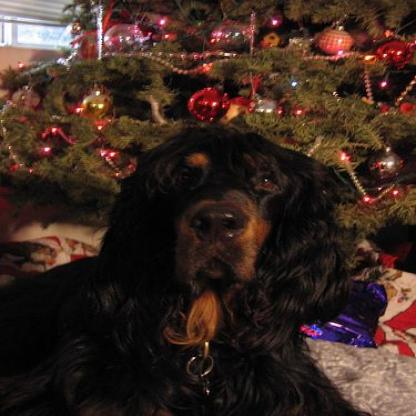Gordon_setter: (0, 121, 372, 414)
